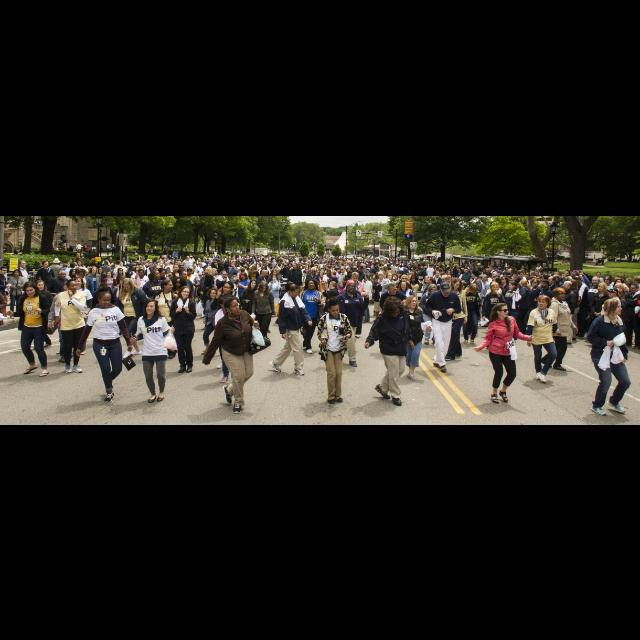head: (603, 298, 623, 316), (224, 297, 242, 315), (388, 298, 402, 318), (98, 290, 112, 308), (496, 302, 510, 318), (329, 300, 341, 318), (554, 287, 568, 301), (25, 282, 37, 298), (146, 299, 158, 315), (220, 296, 232, 312), (66, 279, 78, 293), (122, 278, 134, 292), (538, 295, 550, 309), (440, 282, 450, 298), (407, 294, 418, 308), (162, 279, 174, 291), (180, 286, 192, 298), (223, 282, 235, 294), (290, 284, 300, 298), (346, 279, 356, 293), (74, 276, 84, 288), (452, 278, 462, 290), (490, 281, 500, 293), (608, 288, 620, 296), (210, 288, 218, 298), (308, 280, 316, 290), (429, 284, 437, 294), (599, 282, 607, 292), (469, 284, 478, 292), (37, 280, 44, 290), (250, 280, 258, 288), (1, 266, 8, 274), (19, 260, 26, 268), (14, 268, 20, 276)
person: (200, 295, 274, 415), (74, 283, 136, 405), (472, 300, 534, 408), (582, 293, 632, 417), (364, 291, 416, 409), (130, 296, 180, 406), (314, 295, 356, 407), (267, 282, 315, 378), (14, 280, 54, 378), (424, 281, 464, 374), (394, 294, 434, 384), (331, 280, 371, 368), (209, 296, 249, 384), (54, 278, 88, 376), (524, 294, 560, 384), (114, 277, 152, 359), (540, 286, 576, 372), (210, 280, 244, 370), (150, 278, 184, 362), (168, 286, 200, 374), (440, 274, 470, 364), (296, 278, 328, 356), (27, 278, 62, 348), (66, 278, 94, 358), (480, 280, 510, 354), (200, 285, 227, 357), (598, 287, 626, 353), (416, 283, 444, 345), (589, 282, 615, 344), (460, 283, 484, 345), (6, 262, 28, 320), (12, 257, 34, 307), (240, 280, 258, 334), (0, 260, 12, 326)
